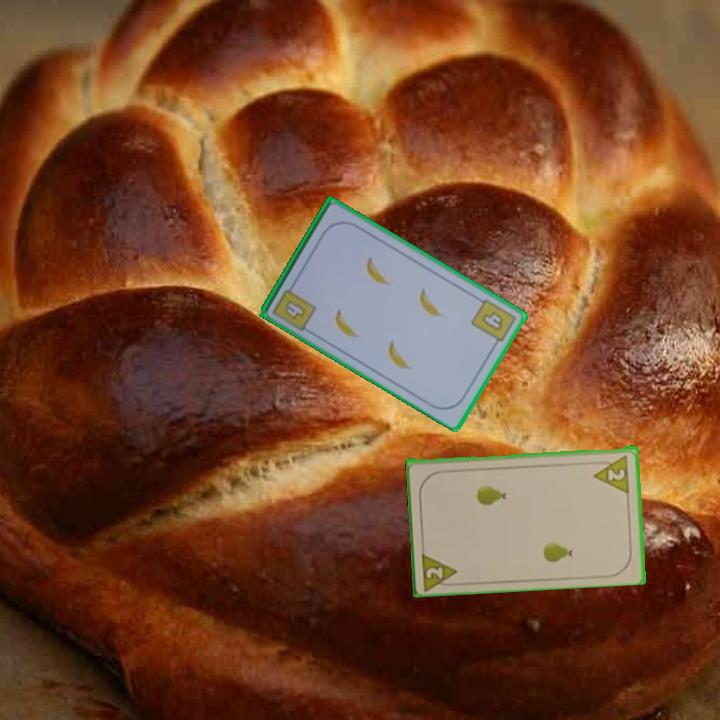2p: (418, 547, 462, 592), (590, 451, 632, 494)
4b: (467, 295, 519, 350), (269, 279, 319, 334)
